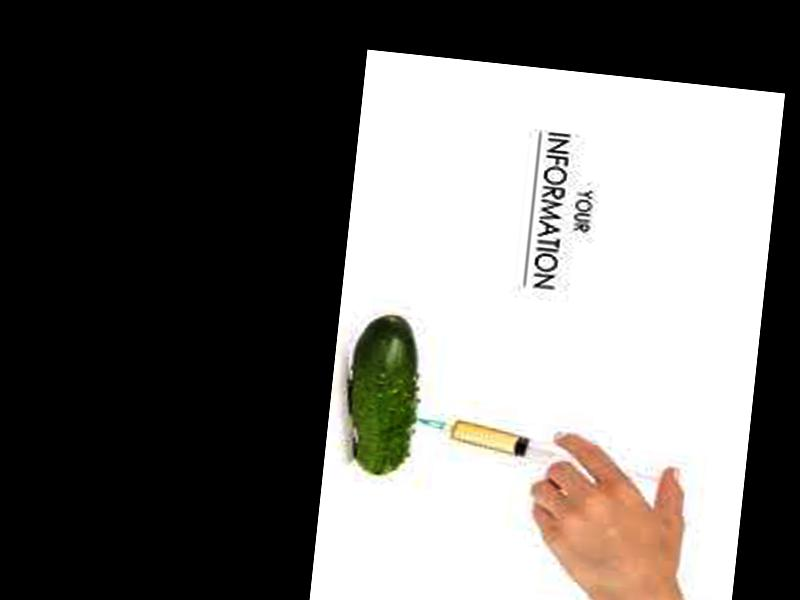Cucumber: (344, 312, 426, 480)
